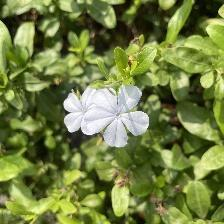chitrak: (84, 88, 150, 146), (63, 86, 101, 138)
